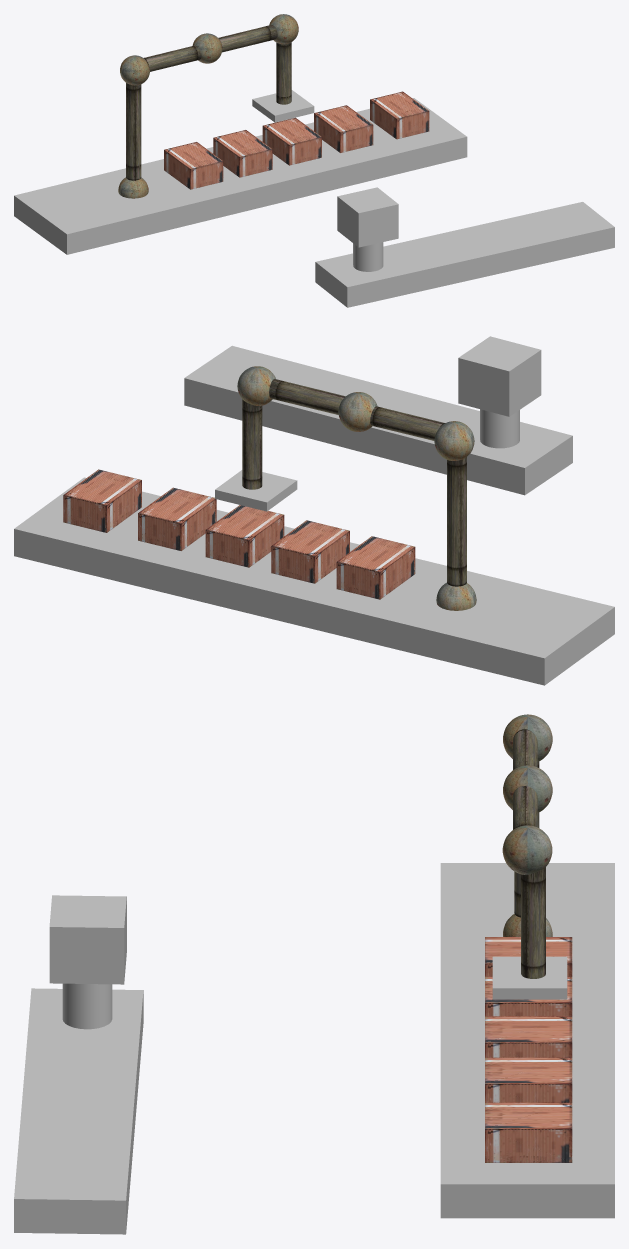
Rendered from boat.obj.
3 renders of one model, top to bottom at view 1: azimuth 30°, elevation 25°; view 2: azimuth 150°, elevation 25°; view 3: azimuth 270°, elevation 25°, orthographic. The views are drawn at different scales.
Visible parts, largest first — view 1: port, boatFloor, Box4, Box5, Box, Box3, Box2, Box1, tube1, claw, clawTube, tube3 (+6 smaller); view 2: port, boatFloor, Box4, Box, Box5, Box3, Box2, Box1, tube1, claw, clawTube, tube3 (+6 smaller); view 3: port, boatFloor, Box4, Box5, Box3, Box2, claw, clawTube, Cylinder, joint3, Box1, Box (+4 smaller).
Part boxes in pixels (left/top/right/bottom): port: left=14, top=98, right=467, bottom=254; boatFloor: left=315, top=202, right=614, bottom=307; Box4: left=337, top=187, right=398, bottom=247; Box5: left=370, top=91, right=429, bottom=139; Box: left=164, top=142, right=223, bottom=189; Box3: left=314, top=105, right=373, bottom=152; Box2: left=262, top=117, right=321, bottom=165; Box1: left=213, top=130, right=272, bottom=177; tube1: left=126, top=83, right=141, bottom=180; claw: left=252, top=90, right=314, bottom=122; clawTube: left=276, top=42, right=291, bottom=104; tube3: left=218, top=25, right=277, bottom=52; port: left=14, top=477, right=614, bottom=685; boatFloor: left=184, top=345, right=572, bottom=495; Box4: left=458, top=336, right=541, bottom=416; Box: left=336, top=536, right=415, bottom=599; Box5: left=63, top=469, right=141, bottom=532; Box3: left=138, top=487, right=216, bottom=550; Box2: left=205, top=505, right=284, bottom=567; Box1: left=271, top=520, right=349, bottom=583; tube1: left=447, top=457, right=466, bottom=586; claw: left=215, top=470, right=297, bottom=511; clawTube: left=242, top=399, right=262, bottom=489; tube3: left=269, top=379, right=345, bottom=414; port: left=440, top=863, right=614, bottom=1218; boatFloor: left=14, top=988, right=143, bottom=1234; Box4: left=49, top=895, right=126, bottom=984; Box5: left=485, top=1102, right=572, bottom=1162; Box3: left=485, top=1057, right=572, bottom=1102; Box2: left=485, top=1016, right=572, bottom=1057; claw: left=492, top=956, right=567, bottom=999; clawTube: left=521, top=867, right=545, bottom=978; Cylinder: left=62, top=983, right=112, bottom=1029; joint3: left=502, top=825, right=552, bottom=874; Box1: left=485, top=976, right=572, bottom=1016; Box: left=485, top=937, right=572, bottom=976.
Bounding box in the file's own units: 6.41 × 2.34 × 4.82.
